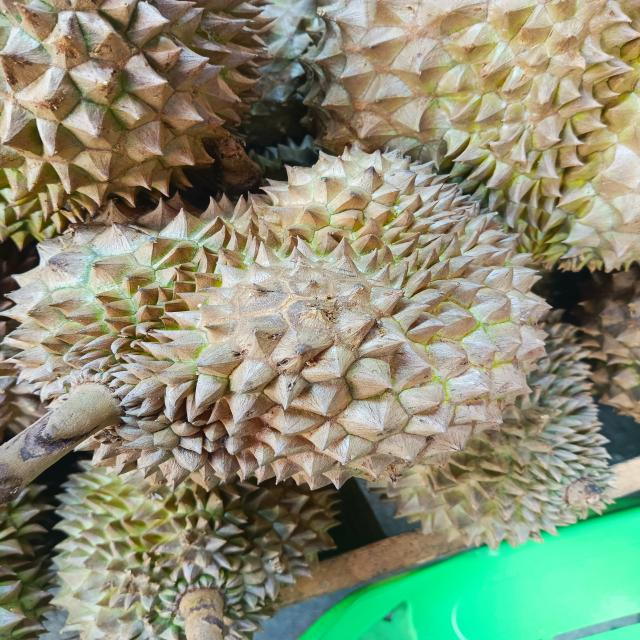mature: (0, 142, 611, 545), (312, 0, 640, 268), (0, 0, 271, 247), (375, 323, 611, 548), (54, 464, 337, 640)
